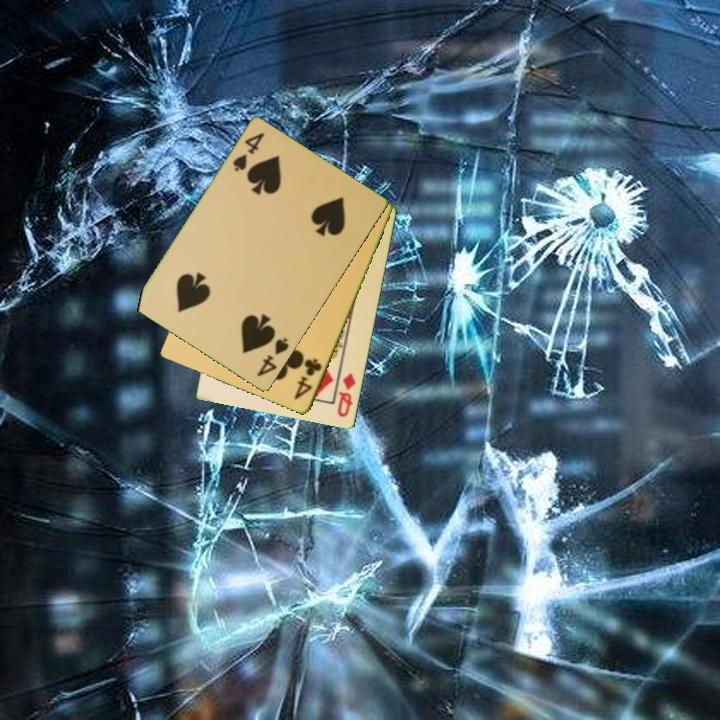4c: (291, 355, 325, 403)
4s: (229, 129, 268, 175), (253, 335, 292, 380)
Qd: (334, 369, 359, 421)
